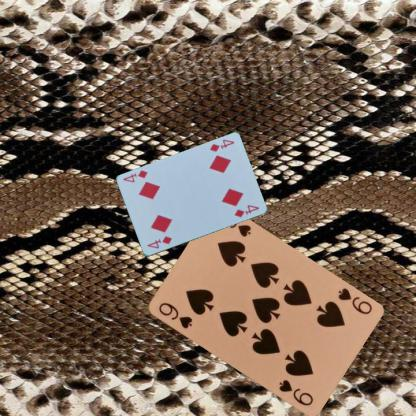4d: (144, 233, 173, 250), (207, 137, 236, 153)
9s: (335, 285, 373, 316), (156, 300, 194, 330)
